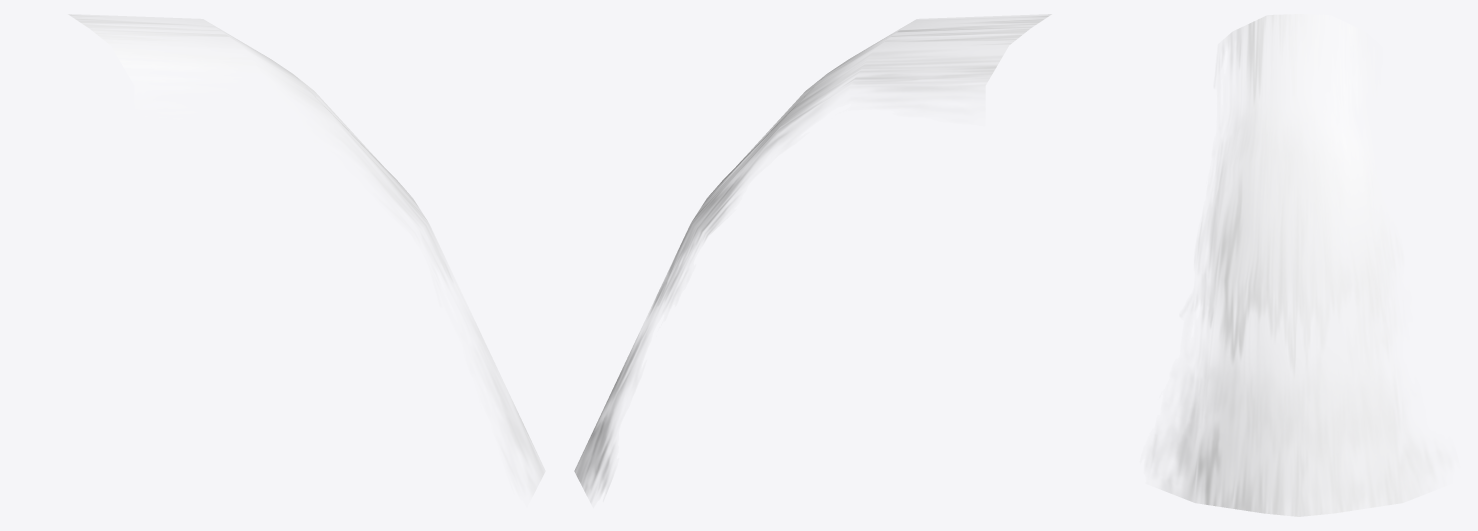
The model's file is waterfall-turtle02-1.glb.
The picture shows the model from 3 angles, left to right: view 1: azimuth 30°, elevation 25°; view 2: azimuth 150°, elevation 25°; view 3: azimuth 270°, elevation 25°; orthographic projection. The views are drawn at different scales.
Visible parts, largest first — view 1: waterfall01; view 2: waterfall01; view 3: waterfall01.
Boxes of the visible parts, x1,y1,x2,y2 form: waterfall01: (68,14,545,495); waterfall01: (574,14,1051,495); waterfall01: (1152,14,1452,516).
Size of the model in its own units: 2.05 by 2.16 by 1.83.
1 material, 1 textured.
